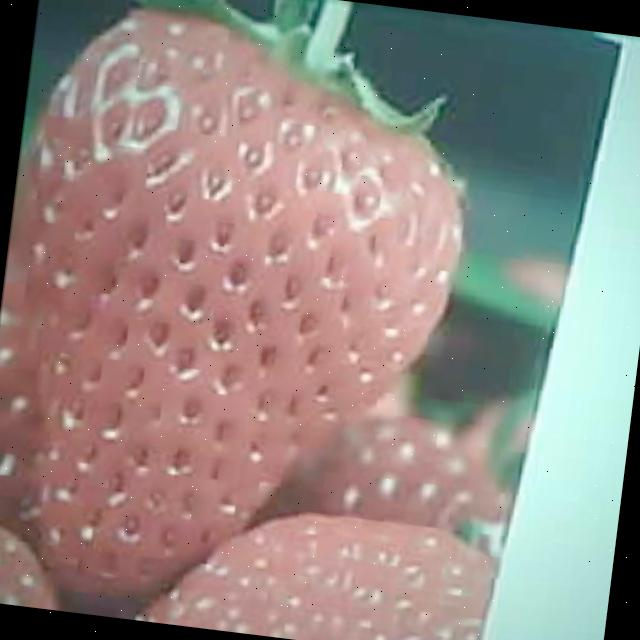strawberry: (0, 0, 481, 629)
